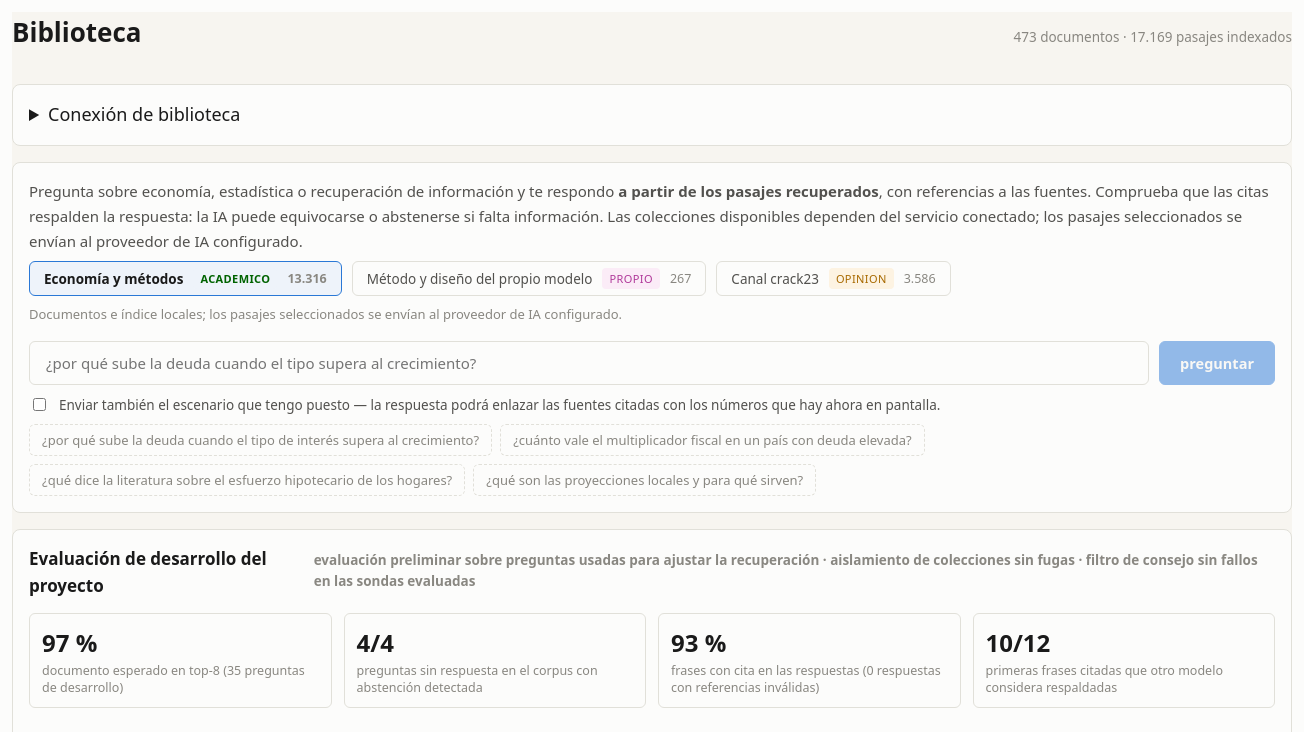
Scenario: Biblioteca — chat con citas › surfaces the server's reason when the chat stream answers 503
Check: the text "Economía y métodos" is shown, box [44,268,183,289]
Type "por qué sube la deuda" into the field named "Pregunta" at (589, 363), box [29,341,1149,385]
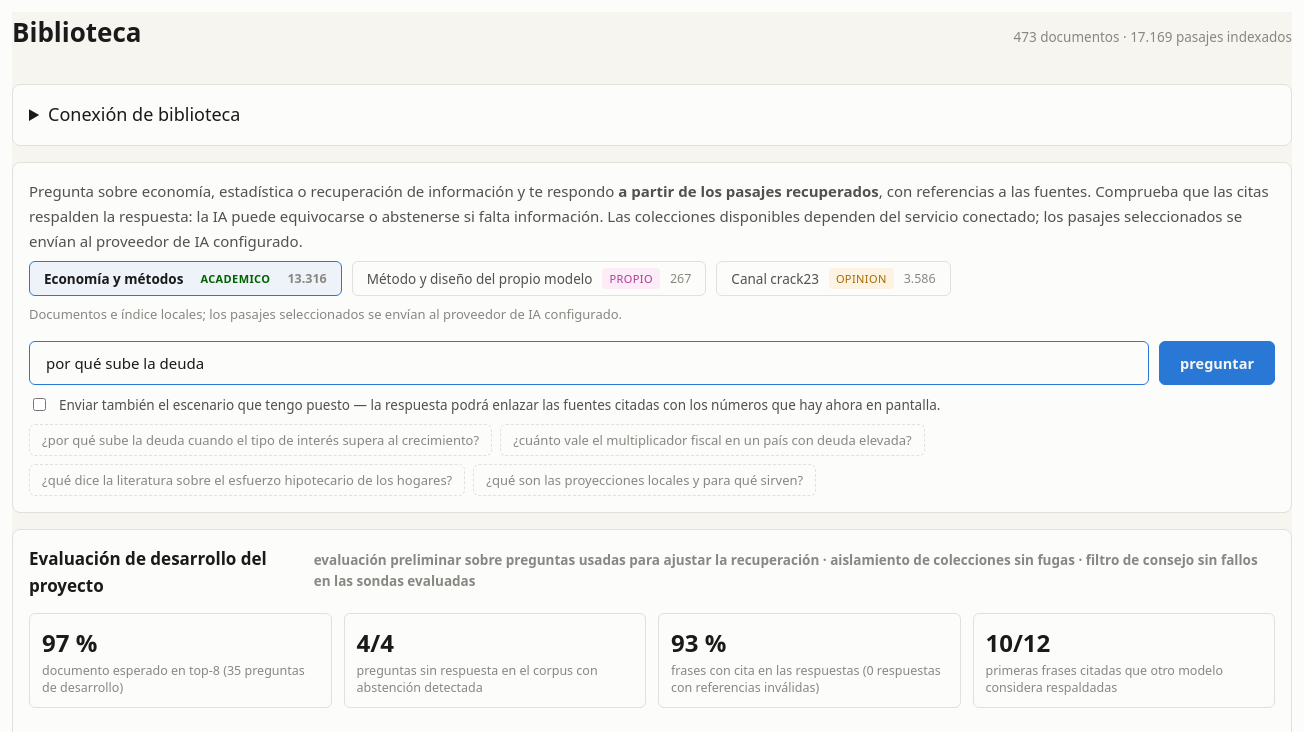
Click the button "preguntar" at (1217, 363), box [1159,341,1275,385]
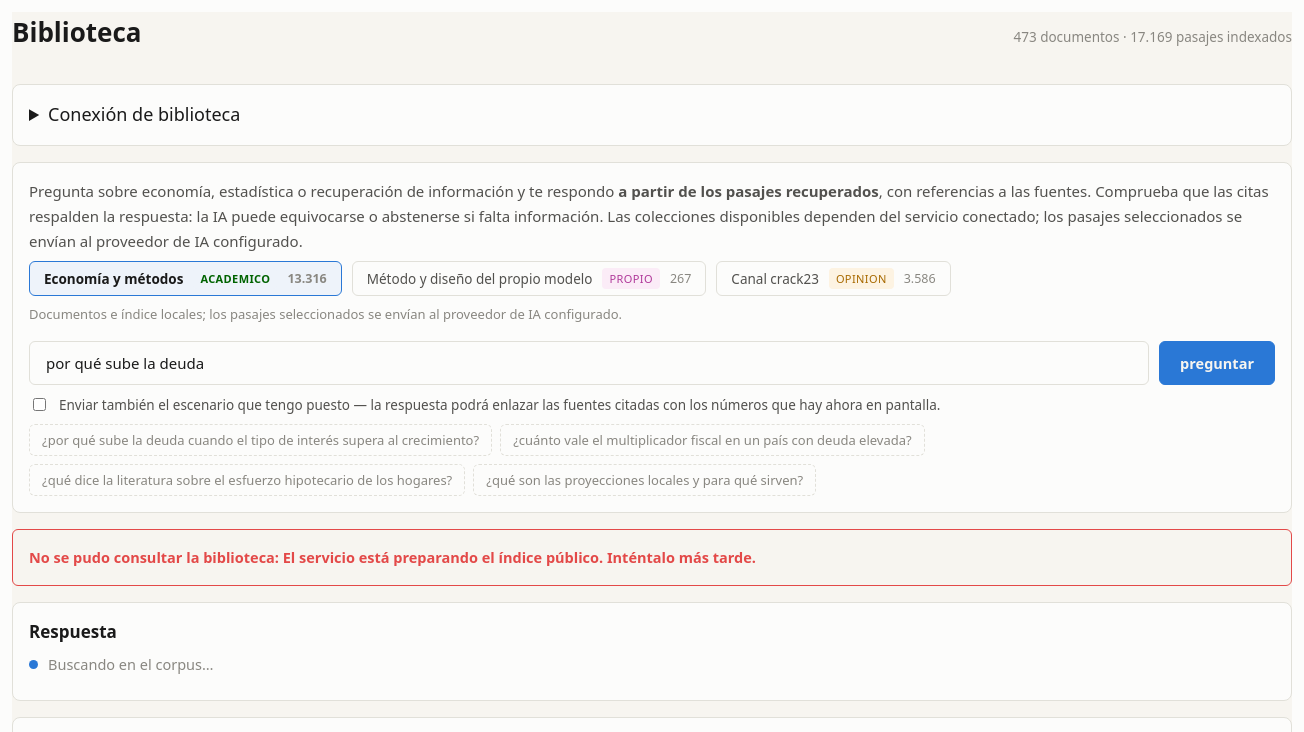
Check: the message shows "El servicio está preparando el índice público. Inténtalo más tarde.", box [283,547,756,567]
